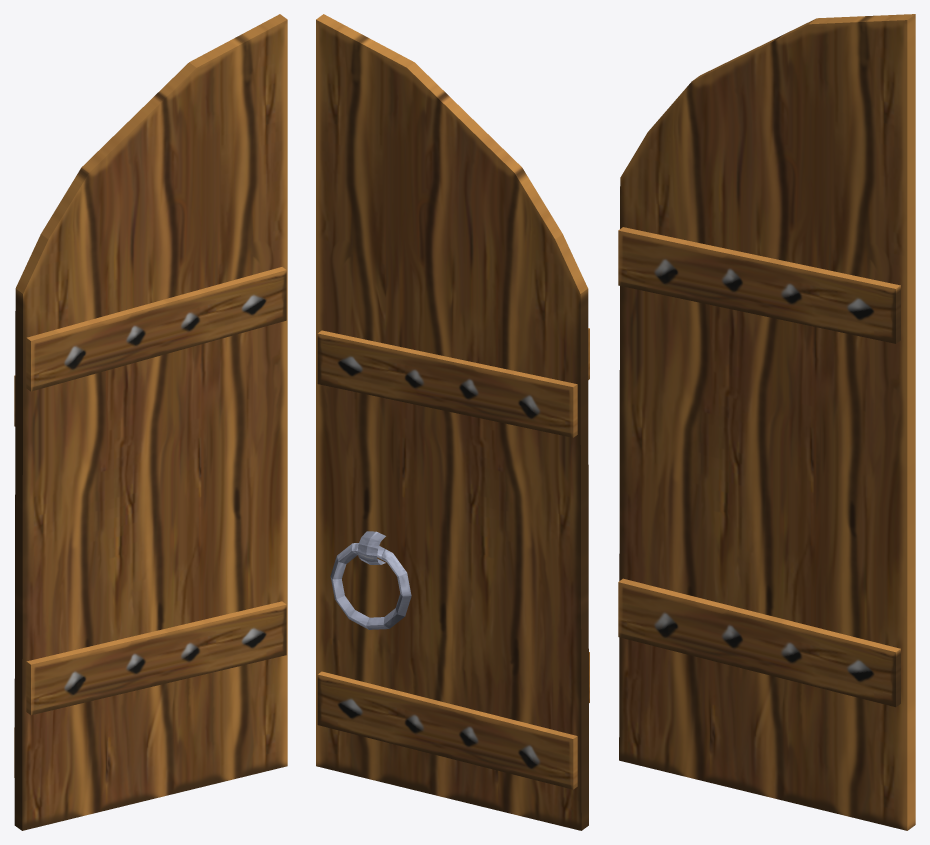
The model's file is Door_02.FBX.
3 views of the same model, side by side, from view 1: azimuth 30°, elevation 25°; view 2: azimuth 150°, elevation 25°; view 3: azimuth 330°, elevation 25° (orthographic). The views are drawn at different scales.
Visible parts, largest first — view 1: Door_02; view 2: Door_02; view 3: Door_02.
Part boxes in pixels (box(x1,y1,x2,y2)): Door_02: box(14, 14, 287, 830); Door_02: box(316, 14, 589, 830); Door_02: box(618, 14, 915, 830).
Size of the model in its own units: 65.51 by 176 by 9.8.
